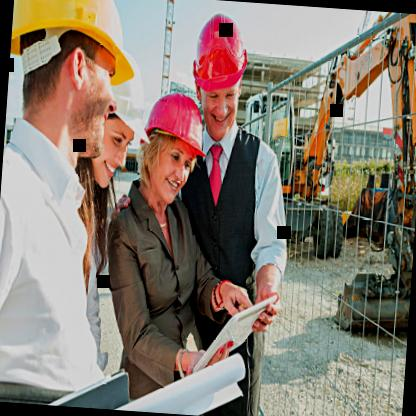helmet: (3, 0, 141, 165), (78, 49, 154, 192), (189, 11, 255, 139), (138, 92, 207, 208)
